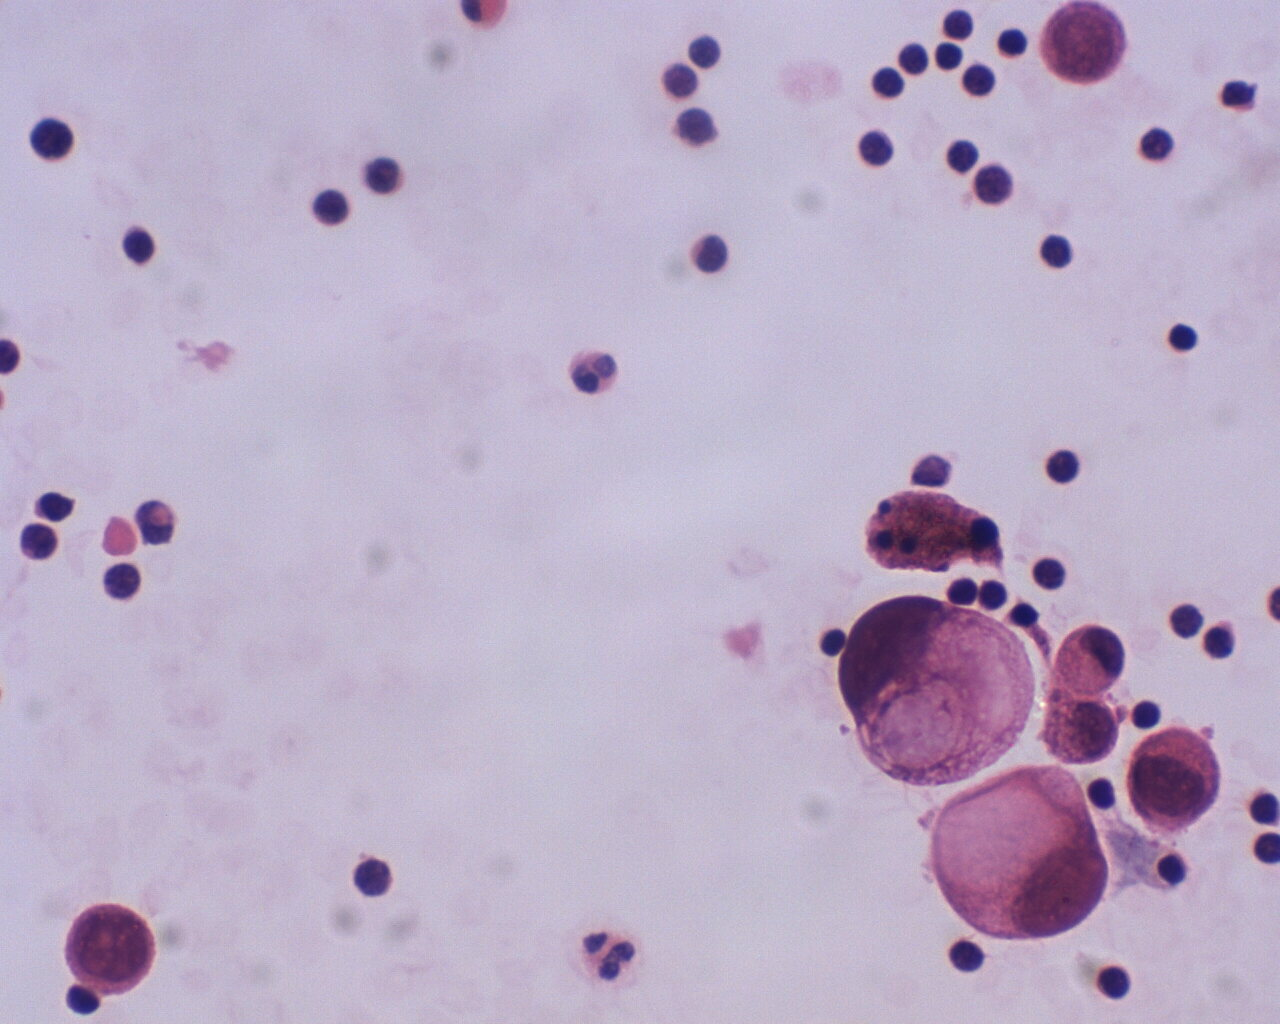ab: (837, 592, 1035, 791), (1127, 719, 1224, 830), (63, 898, 161, 1000), (1032, 1, 1137, 89), (1040, 691, 1126, 771)
histo: (929, 769, 1109, 939), (1055, 621, 1124, 696)
lymph: (28, 114, 79, 166), (308, 184, 357, 236), (113, 223, 167, 269), (941, 929, 990, 978), (1090, 958, 1139, 1005), (348, 853, 396, 900), (97, 559, 146, 605), (686, 230, 732, 276), (1032, 228, 1080, 272), (685, 31, 734, 73), (864, 59, 909, 101), (940, 136, 987, 177), (1027, 549, 1068, 594), (1041, 447, 1083, 489), (955, 59, 995, 101), (1165, 318, 1202, 360), (819, 618, 850, 661)
neutro: (579, 925, 642, 990), (567, 344, 623, 397)
